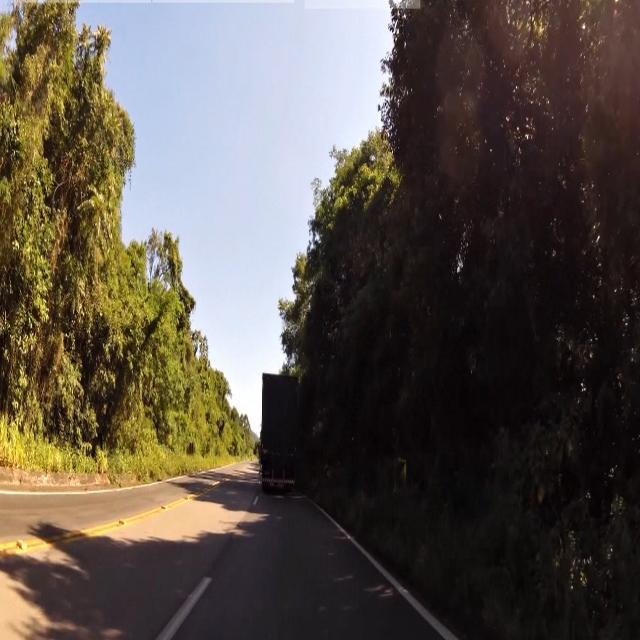Del: (394, 462, 406, 489)
